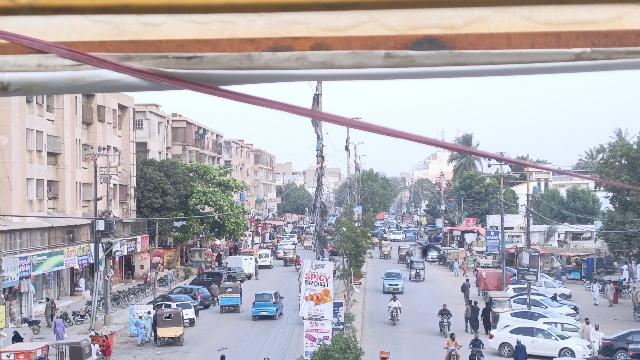Bike: (387, 306, 403, 327), (438, 316, 452, 337), (444, 345, 463, 360), (470, 345, 485, 360), (295, 263, 301, 273)
Car: (489, 324, 589, 358), (250, 290, 284, 322), (151, 291, 200, 310), (381, 270, 406, 294), (176, 300, 195, 326)
Person: (50, 313, 68, 340), (588, 321, 603, 352), (460, 298, 473, 333), (511, 337, 529, 360), (603, 276, 616, 307), (480, 300, 493, 330), (132, 314, 144, 346), (589, 277, 602, 305), (142, 309, 152, 342), (42, 295, 52, 328), (442, 332, 462, 348), (468, 332, 486, 348), (579, 315, 590, 341), (472, 299, 480, 333), (387, 296, 403, 308), (436, 304, 453, 315), (296, 256, 301, 262)
Rickshaw: (155, 309, 187, 347), (217, 281, 244, 314), (488, 289, 510, 327), (408, 258, 426, 283), (379, 239, 393, 260), (396, 244, 410, 265)
